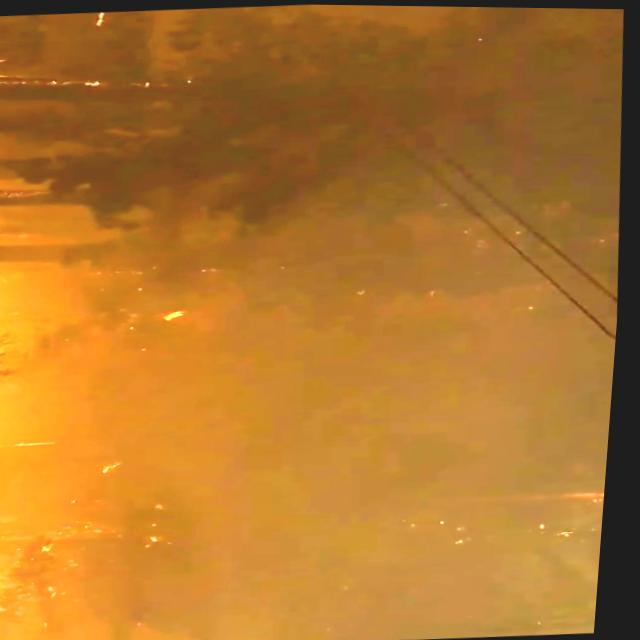smoke: (306, 347, 620, 640)
